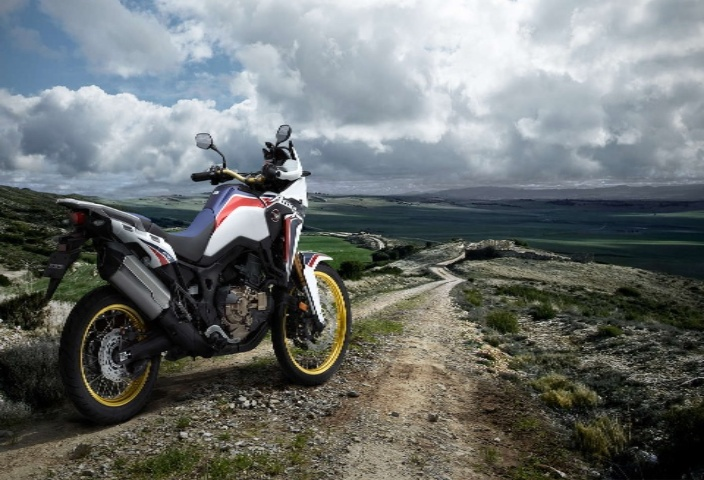motorcycle: (11, 124, 378, 416)
